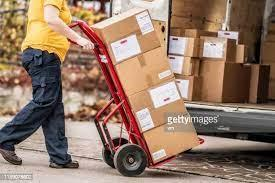Boxes: (90, 7, 161, 66), (129, 78, 187, 133), (116, 47, 175, 97), (143, 116, 201, 164)
